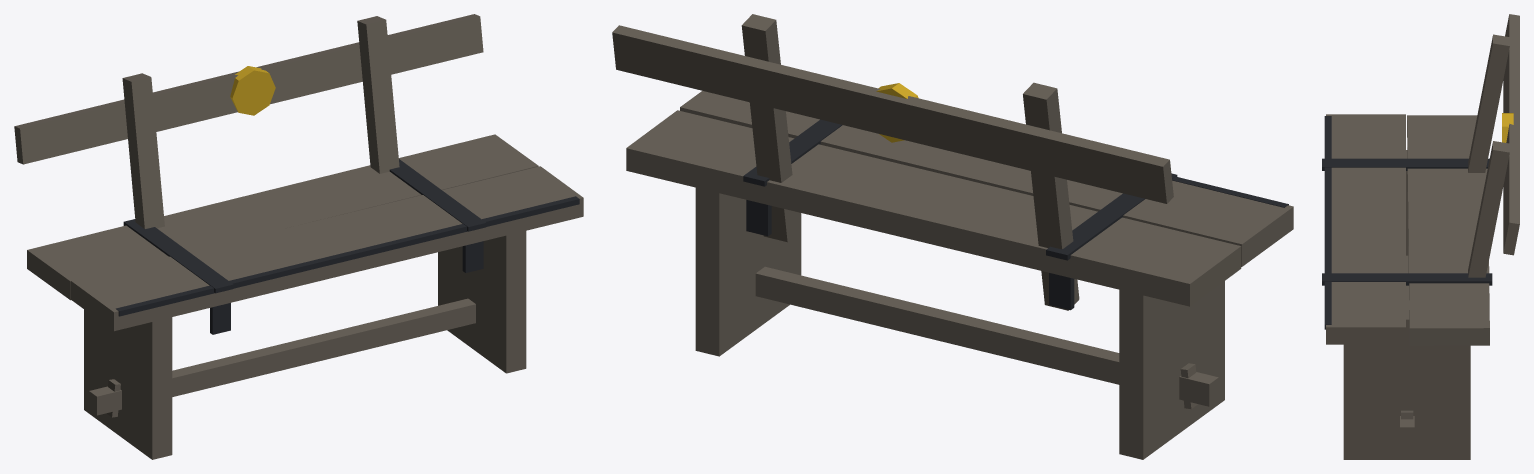
The model's file is SM_Bench_KeepGarrison_03.glb.
3 views of the same model, side by side, from view 1: azimuth 30°, elevation 25°; view 2: azimuth 150°, elevation 25°; view 3: azimuth 270°, elevation 25° (orthographic). The views are drawn at different scales.
Visible parts, largest first — view 1: SM_Bench_KeepGarrison_03_SeatPlank0, SM_Bench_KeepGarrison_03_SeatPlank1, SM_Bench_KeepGarrison_03_BackRail0, SM_Bench_KeepGarrison_03_TrestleL, SM_Bench_KeepGarrison_03_Stretcher, SM_Bench_KeepGarrison_03_TrestleR, SM_Bench_KeepGarrison_03_BackPost1, SM_Bench_KeepGarrison_03_BackPost0, SM_Bench_KeepGarrison_03_EdgeTrim, SM_Bench_KeepGarrison_03_StrapTop0, SM_Bench_KeepGarrison_03_Medallion, SM_Bench_KeepGarrison_03_StrapTop1 (+2 smaller); view 2: SM_Bench_KeepGarrison_03_SeatPlank1, SM_Bench_KeepGarrison_03_BackRail0, SM_Bench_KeepGarrison_03_SeatPlank0, SM_Bench_KeepGarrison_03_TrestleL, SM_Bench_KeepGarrison_03_Stretcher, SM_Bench_KeepGarrison_03_TrestleR, SM_Bench_KeepGarrison_03_BackPost1, SM_Bench_KeepGarrison_03_BackPost0, SM_Bench_KeepGarrison_03_StrapTop0, SM_Bench_KeepGarrison_03_StrapTop1, SM_Bench_KeepGarrison_03_StrapBack0, SM_Bench_KeepGarrison_03_StrapBack1; view 3: SM_Bench_KeepGarrison_03_SeatPlank0, SM_Bench_KeepGarrison_03_SeatPlank1, SM_Bench_KeepGarrison_03_TrestleR, SM_Bench_KeepGarrison_03_BackRail0, SM_Bench_KeepGarrison_03_BackPost0, SM_Bench_KeepGarrison_03_BackPost1, SM_Bench_KeepGarrison_03_StrapTop1, SM_Bench_KeepGarrison_03_StrapTop0, SM_Bench_KeepGarrison_03_EdgeTrim, SM_Bench_KeepGarrison_03_Stretcher, SM_Bench_KeepGarrison_03_Medallion, SM_Bench_KeepGarrison_03_TrestleL.
Boxes of the visible parts, box(x1,y1,x2,y2) form: SM_Bench_KeepGarrison_03_SeatPlank0: box(71, 166, 583, 331); SM_Bench_KeepGarrison_03_SeatPlank1: box(27, 134, 538, 300); SM_Bench_KeepGarrison_03_BackRail0: box(14, 14, 483, 164); SM_Bench_KeepGarrison_03_TrestleL: box(84, 309, 172, 459); SM_Bench_KeepGarrison_03_Stretcher: box(89, 298, 475, 415); SM_Bench_KeepGarrison_03_TrestleR: box(438, 231, 526, 373); SM_Bench_KeepGarrison_03_BackPost1: box(357, 16, 399, 173); SM_Bench_KeepGarrison_03_BackPost0: box(122, 73, 164, 228); SM_Bench_KeepGarrison_03_EdgeTrim: box(116, 196, 579, 316); SM_Bench_KeepGarrison_03_StrapTop0: box(123, 219, 233, 293); SM_Bench_KeepGarrison_03_Medallion: box(230, 66, 275, 115); SM_Bench_KeepGarrison_03_StrapTop1: box(389, 159, 486, 231); SM_Bench_KeepGarrison_03_SeatPlank1: box(626, 110, 1241, 306); SM_Bench_KeepGarrison_03_BackRail0: box(612, 25, 1173, 203); SM_Bench_KeepGarrison_03_SeatPlank0: box(680, 91, 1293, 266); SM_Bench_KeepGarrison_03_TrestleL: box(1119, 281, 1224, 459); SM_Bench_KeepGarrison_03_Stretcher: box(755, 266, 1218, 406); SM_Bench_KeepGarrison_03_TrestleR: box(695, 187, 801, 356); SM_Bench_KeepGarrison_03_BackPost1: box(741, 14, 798, 242); SM_Bench_KeepGarrison_03_BackPost0: box(1023, 82, 1079, 310); SM_Bench_KeepGarrison_03_StrapTop0: box(1046, 173, 1177, 260); SM_Bench_KeepGarrison_03_StrapTop1: box(743, 119, 842, 186); SM_Bench_KeepGarrison_03_StrapBack0: box(1049, 273, 1074, 310); SM_Bench_KeepGarrison_03_StrapBack1: box(746, 200, 771, 236); SM_Bench_KeepGarrison_03_SeatPlank0: box(1326, 114, 1405, 344); SM_Bench_KeepGarrison_03_SeatPlank1: box(1407, 115, 1489, 345); SM_Bench_KeepGarrison_03_TrestleR: box(1343, 310, 1470, 459); SM_Bench_KeepGarrison_03_BackRail0: box(1503, 14, 1519, 255); SM_Bench_KeepGarrison_03_BackPost0: box(1468, 34, 1509, 172); SM_Bench_KeepGarrison_03_BackPost1: box(1468, 141, 1509, 277); SM_Bench_KeepGarrison_03_StrapTop1: box(1322, 273, 1492, 285); SM_Bench_KeepGarrison_03_StrapTop0: box(1322, 158, 1489, 170); SM_Bench_KeepGarrison_03_EdgeTrim: box(1324, 116, 1331, 329); SM_Bench_KeepGarrison_03_Stretcher: box(1400, 255, 1414, 444); SM_Bench_KeepGarrison_03_Medallion: box(1502, 113, 1513, 142); SM_Bench_KeepGarrison_03_TrestleL: box(1406, 150, 1408, 255).
Size of the model in its own units: 1.3 by 0.8061 by 0.511.
